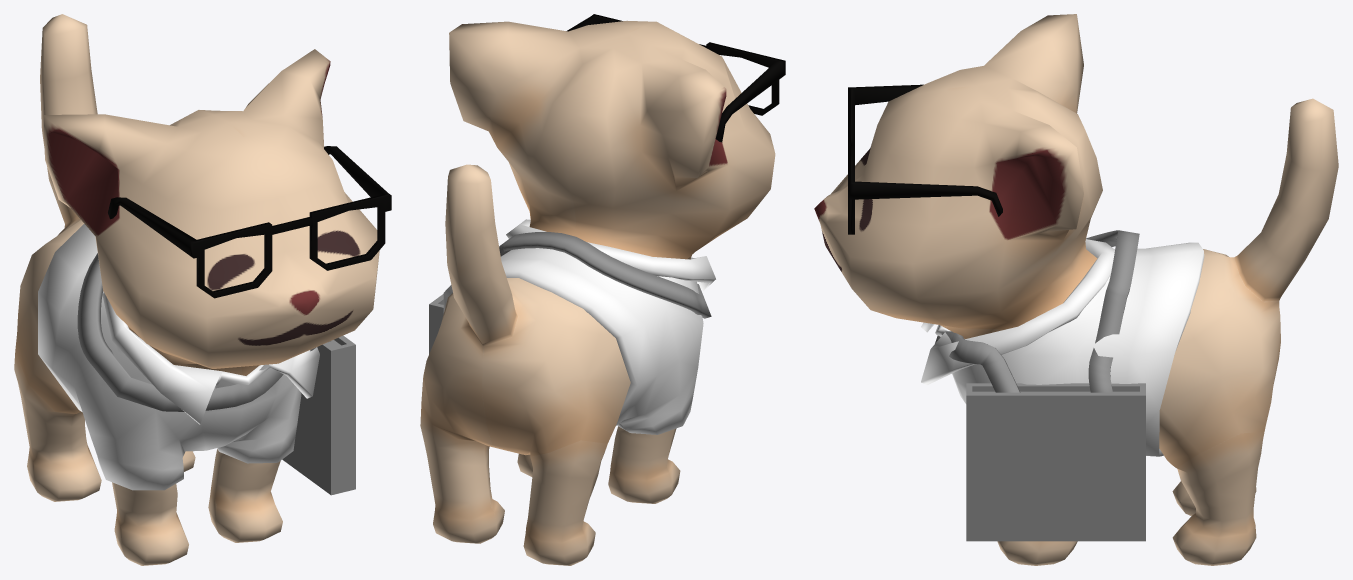
File: Professor Cat01.fbx
3 renders of one model, left to right at view 1: azimuth 30°, elevation 25°; view 2: azimuth 150°, elevation 25°; view 3: azimuth 270°, elevation 25°, orthographic. The views are drawn at different scales.
Parts seen in each view (by area): view 1: Cat_Base, Professor_Cat_Shirt, Professor_Cat_Bag, Professor_Cat_Glasses; view 2: Cat_Base, Professor_Cat_Shirt, Professor_Cat_Bag, Professor_Cat_Glasses; view 3: Cat_Base, Professor_Cat_Bag, Professor_Cat_Shirt, Professor_Cat_Glasses.
Part boxes in pixels (x1,y1,x2,y2): Cat_Base: (14,14,379,565); Professor_Cat_Shirt: (38,224,319,490); Professor_Cat_Bag: (77,253,355,495); Professor_Cat_Glasses: (108,146,391,298); Cat_Base: (420,20,775,565); Professor_Cat_Shirt: (443,219,715,434); Professor_Cat_Bag: (429,232,711,353); Professor_Cat_Glasses: (566,14,785,142); Cat_Base: (814,14,1338,565); Professor_Cat_Bag: (935,230,1145,541); Professor_Cat_Shirt: (921,239,1204,456); Professor_Cat_Glasses: (848,84,1002,234).
Size of the model in its own units: 1.75 by 2.83 by 2.68.
Materials: 4 (1 with a texture image).
